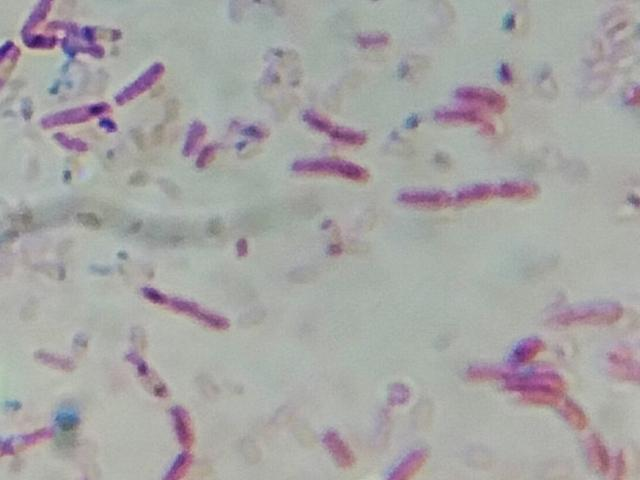E. coli: (141, 280, 231, 327), (285, 146, 368, 189), (113, 58, 167, 110), (542, 290, 621, 322), (541, 392, 593, 432), (301, 103, 359, 138), (42, 96, 111, 125), (53, 17, 130, 41), (132, 347, 168, 397), (393, 444, 441, 480), (32, 30, 98, 56), (429, 103, 500, 127), (0, 425, 50, 459), (476, 373, 560, 392), (39, 125, 87, 157), (448, 82, 511, 106), (16, 0, 59, 35), (570, 434, 602, 480), (322, 427, 352, 475), (498, 172, 548, 200), (499, 330, 540, 361), (159, 447, 195, 480), (406, 187, 450, 214), (168, 396, 192, 443), (36, 342, 70, 374), (453, 170, 488, 200), (192, 142, 227, 171), (175, 120, 206, 152), (0, 36, 17, 79)
